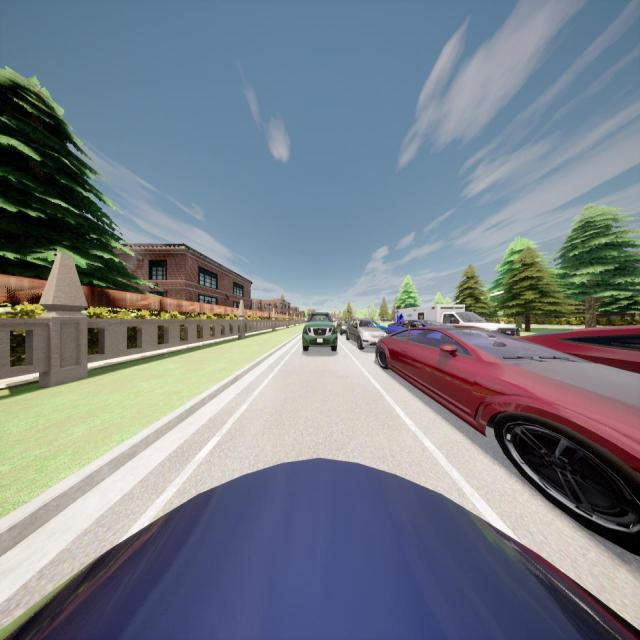Vehicle: (1, 455, 640, 640), (375, 324, 639, 554), (514, 313, 640, 373), (395, 304, 521, 338), (302, 312, 338, 352), (346, 319, 387, 350), (387, 319, 450, 336), (370, 317, 388, 332), (336, 318, 349, 336)
